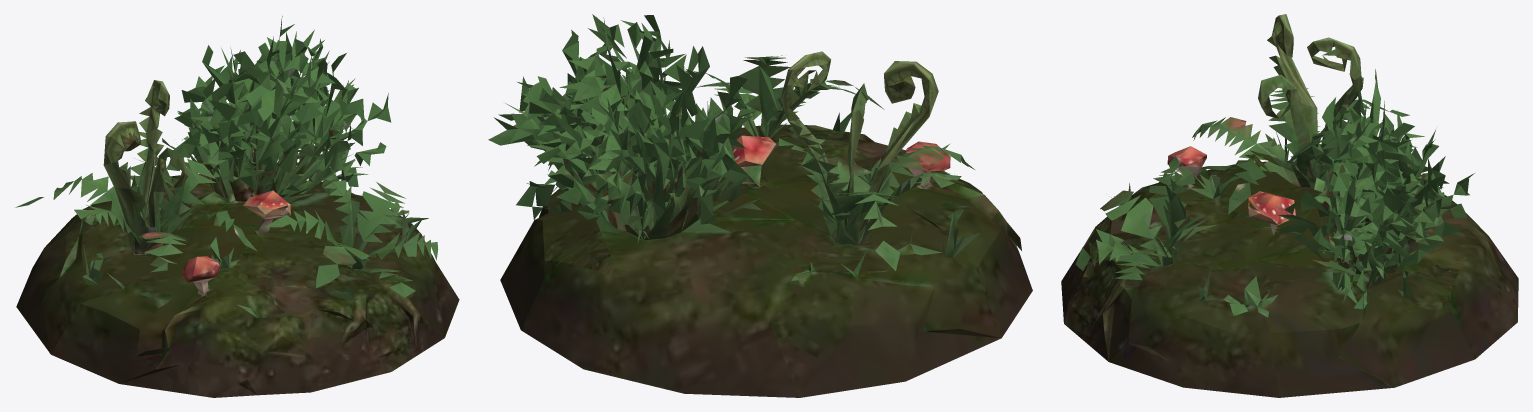
File: bush.glb
3 renders of one model, left to right at view 1: azimuth 30°, elevation 25°; view 2: azimuth 150°, elevation 25°; view 3: azimuth 270°, elevation 25°, orthographic. The views are drawn at different scales.
Visible parts, largest first — view 1: Mesh_0; view 2: Mesh_0; view 3: Mesh_0.
Part boxes in pixels (<box>): Mesh_0: <box>15,16,459,397</box>; Mesh_0: <box>488,14,1032,397</box>; Mesh_0: <box>1061,14,1518,397</box>.
Size of the model in its own units: 1.88 by 1.11 by 1.86.
1 material, 1 textured.
